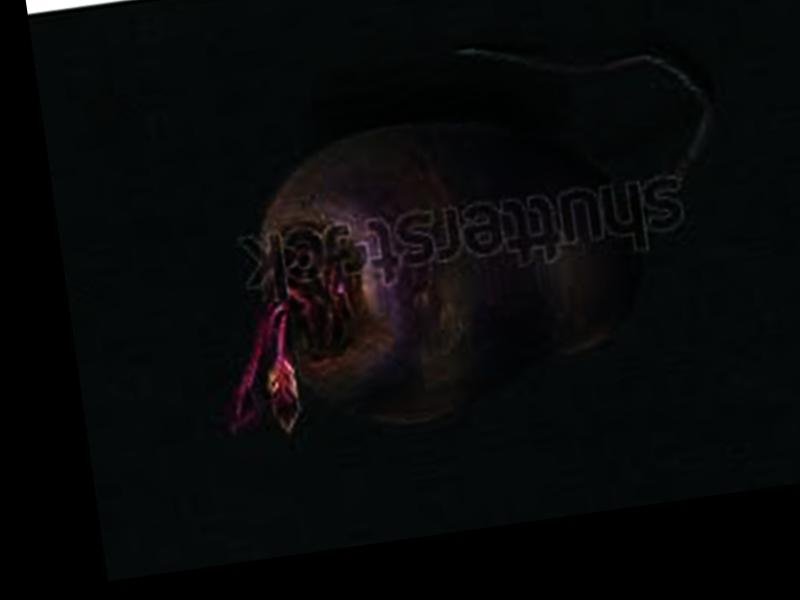Beet: (169, 15, 749, 453)
